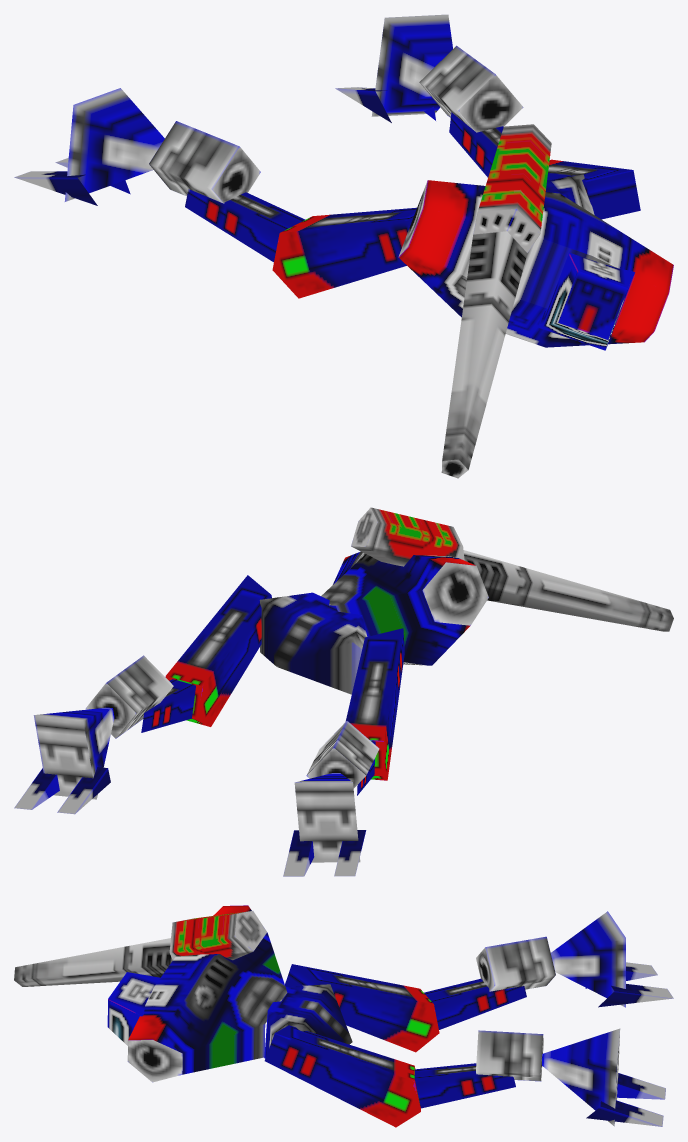
File: hollander_wreck_forward.glb
The picture shows the model from 3 angles, top to bottom: view 1: azimuth 30°, elevation 25°; view 2: azimuth 150°, elevation 25°; view 3: azimuth 270°, elevation 25°; orthographic projection. The views are drawn at different scales.
Visible parts, largest first — view 1: joint_rtoe01; view 2: joint_rtoe01; view 3: joint_rtoe01.
Boxes of the visible parts, x1,y1,x2,y2 form: joint_rtoe01: (14,14,673,478); joint_rtoe01: (14,507,673,876); joint_rtoe01: (14,905,673,1127).
Bounding box in the file's own units: 6.33 × 3.25 × 11.4.
1 material, 1 textured.
